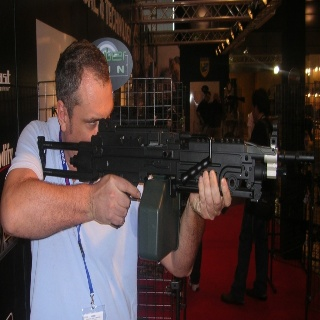rifle: (36, 117, 315, 263)
